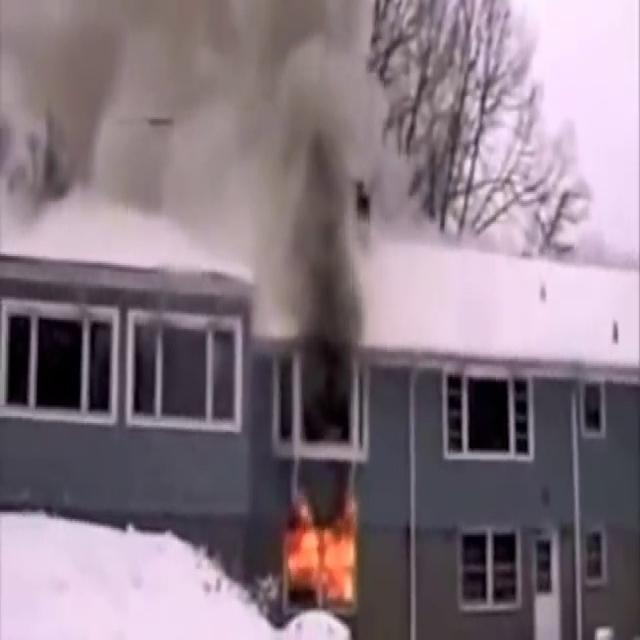Fire: (280, 482, 368, 620)
Smoke: (0, 1, 383, 255)
